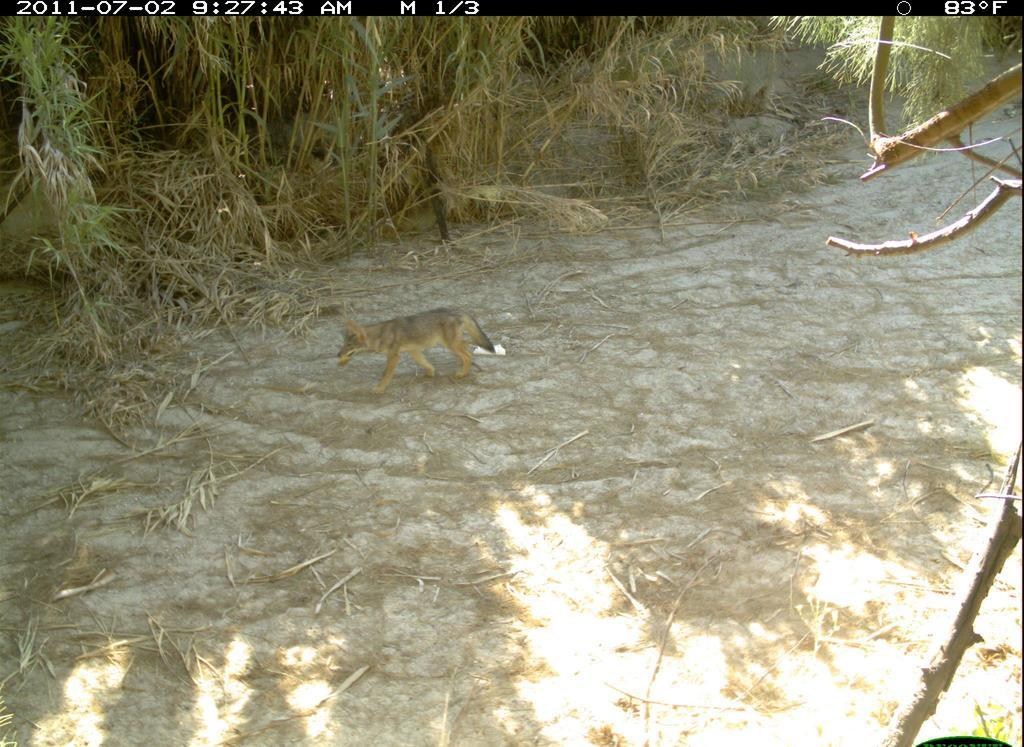coyote: (329, 299, 505, 397)
